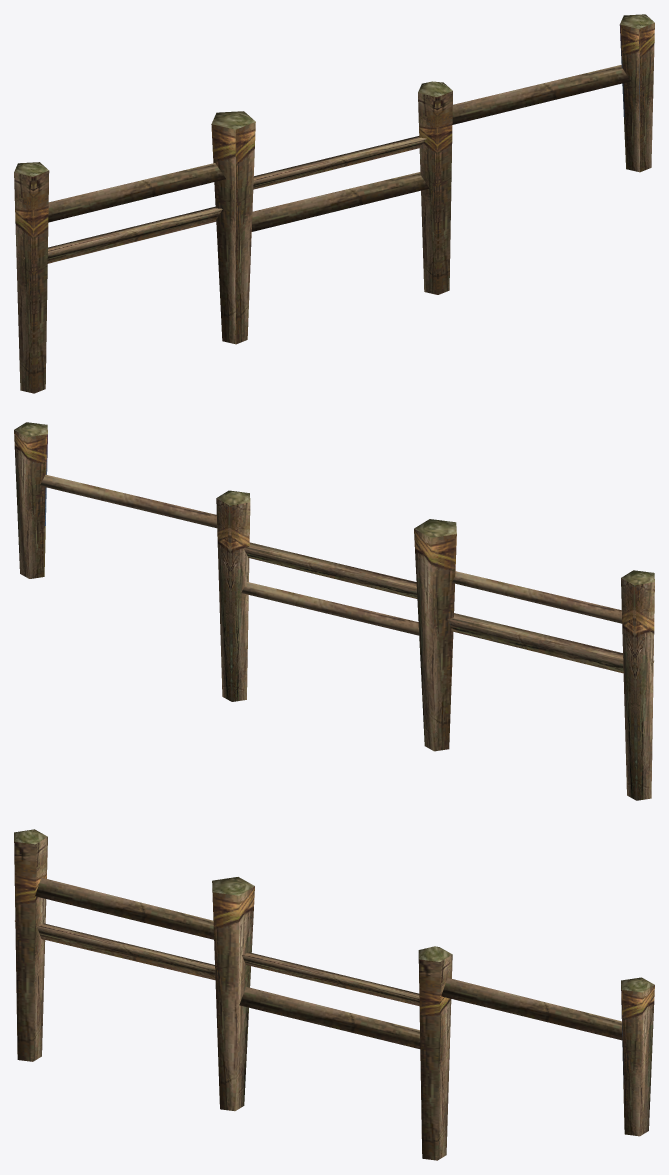
Rendered from S_Build_Cbcl013.FBX.
3 renders of one model, top to bottom at view 1: azimuth 30°, elevation 25°; view 2: azimuth 150°, elevation 25°; view 3: azimuth 330°, elevation 25°, orthographic.
Visible parts, largest first — view 1: S_Build_Cbcl013; view 2: S_Build_Cbcl013; view 3: S_Build_Cbcl013.
Part boxes in pixels (x1,y1,x2,y2): S_Build_Cbcl013: (14,14,654,393); S_Build_Cbcl013: (14,422,654,800); S_Build_Cbcl013: (14,829,654,1160).
Size of the model in its own units: 1047 by 63.85 by 350.
